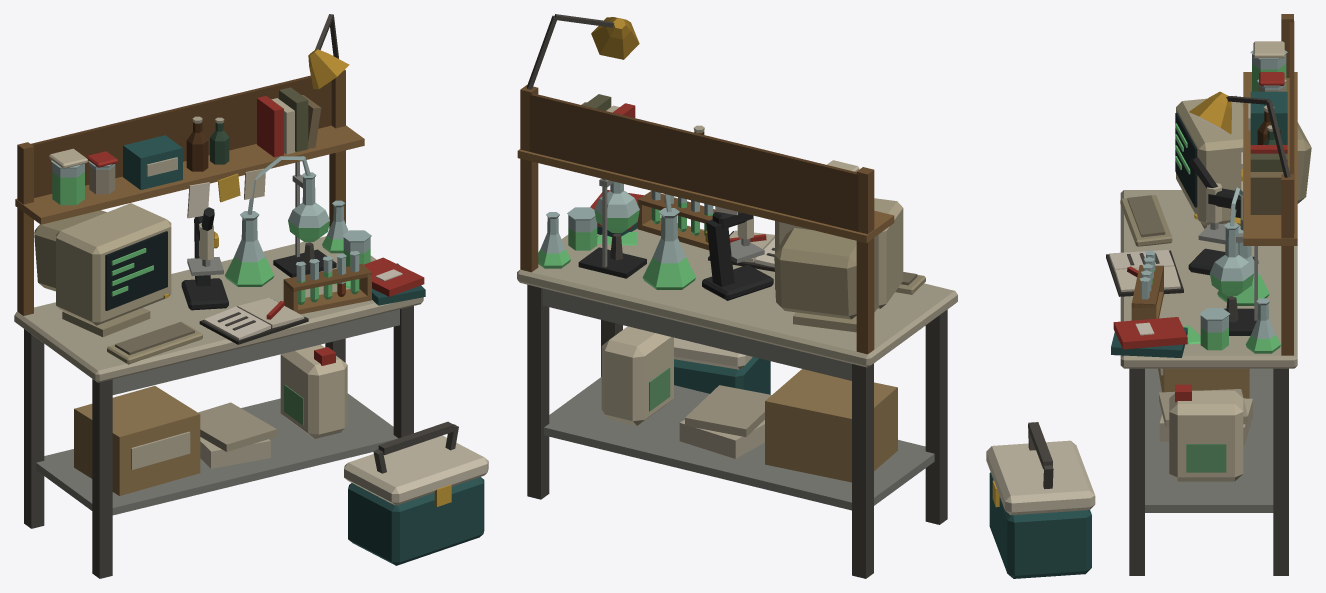
File: estacao_lab.glb
3 views of the same model, side by side, from view 1: azimuth 30°, elevation 25°; view 2: azimuth 150°, elevation 25°; view 3: azimuth 270°, elevation 25° (orthographic). The views are drawn at different scales.
Parts seen in each view (by area): view 1: estacao_lab.001; view 2: estacao_lab.001; view 3: estacao_lab.001.
Part boxes in pixels (bbox=[...]): estacao_lab.001: bbox=[14, 14, 488, 578]; estacao_lab.001: bbox=[517, 14, 957, 578]; estacao_lab.001: bbox=[986, 14, 1311, 578].
Size of the model in its own units: 1.45 by 1.81 by 1.14.
